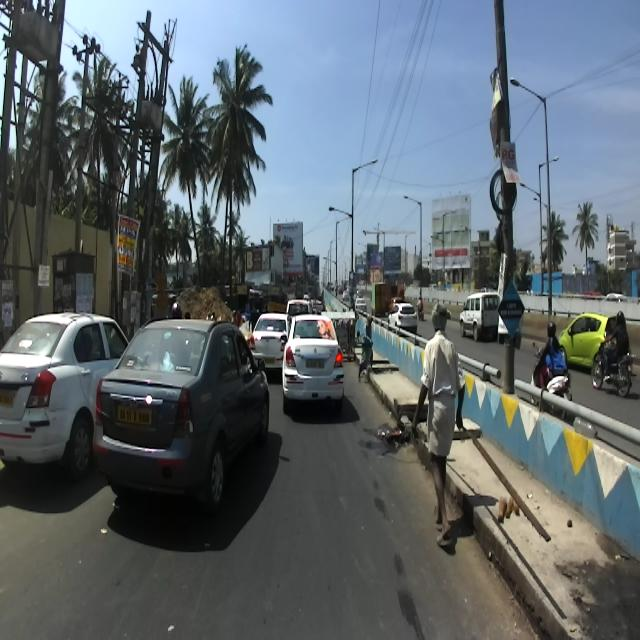car ahead at: (100, 300, 268, 561), (280, 314, 343, 415)
person ahead at: (410, 305, 469, 550)
